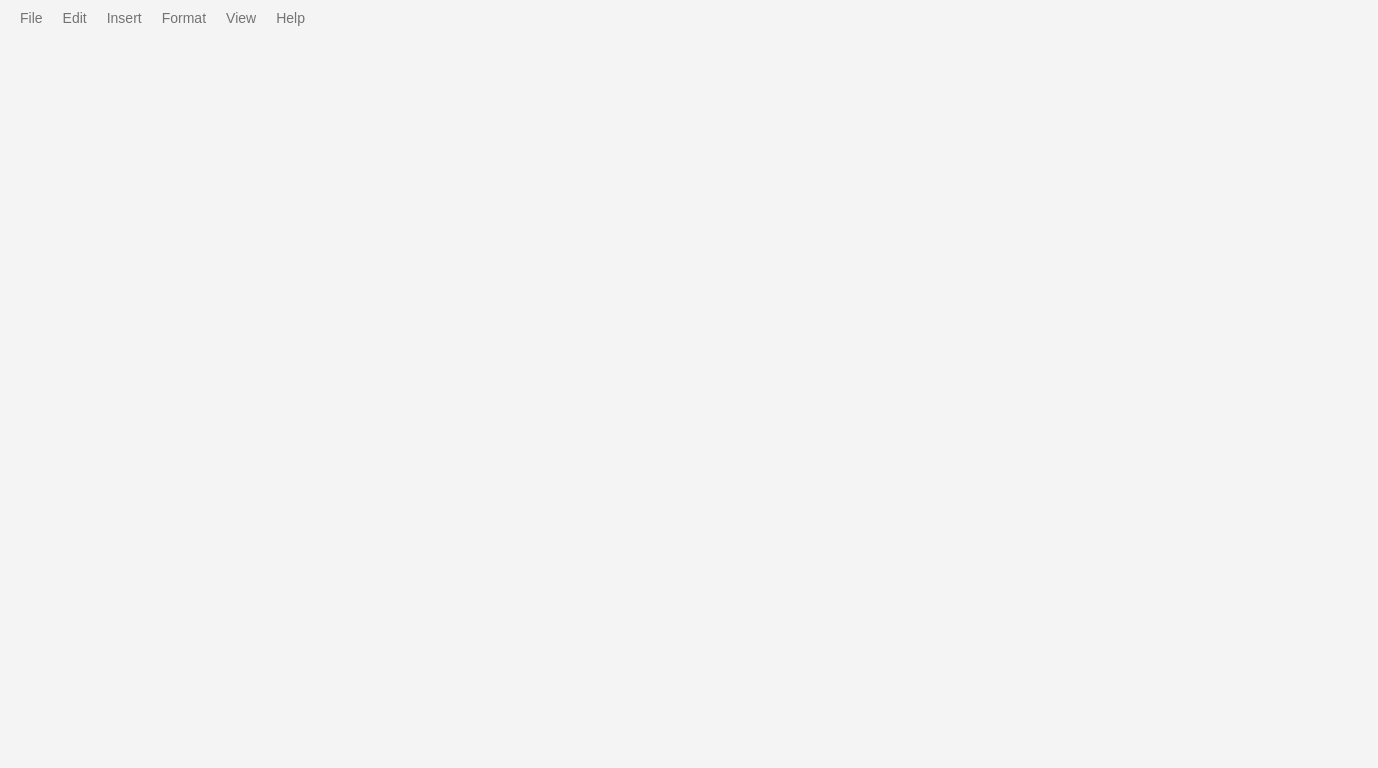
Test: CommandMenubar › callout types › inserts from the GitHub alert dialect submenu
Click the menu item "Insert" at (124,18), box [99, 6, 150, 30]
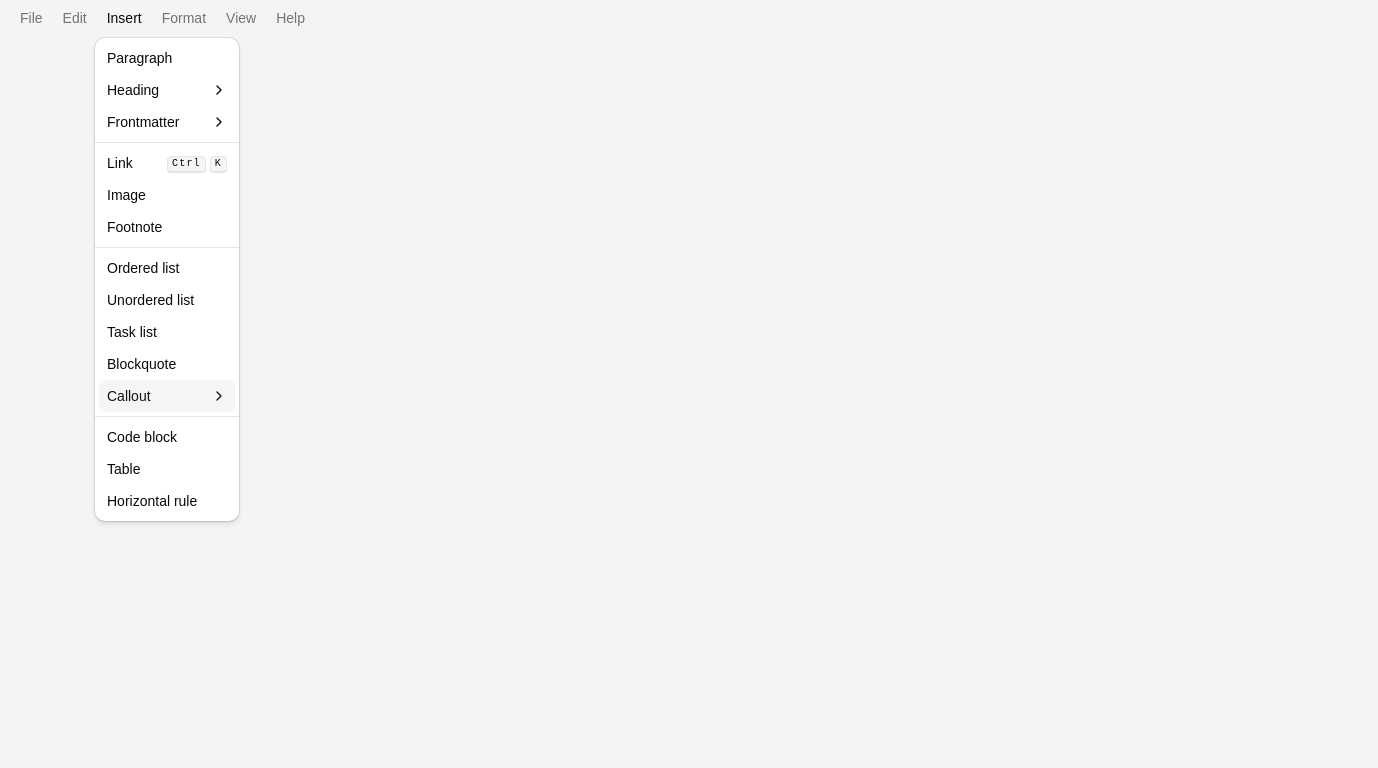
Press Arrowright
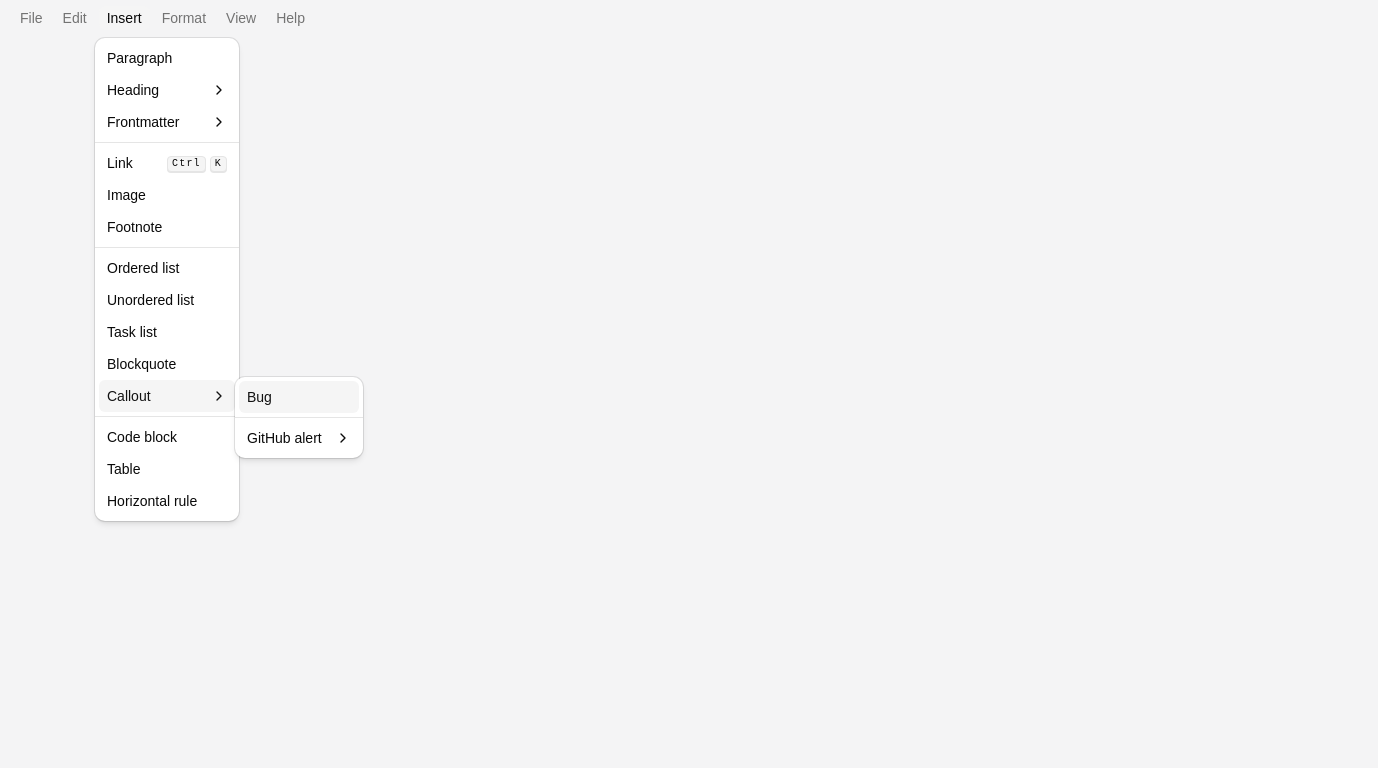
Type keys "G"
Press Arrowright
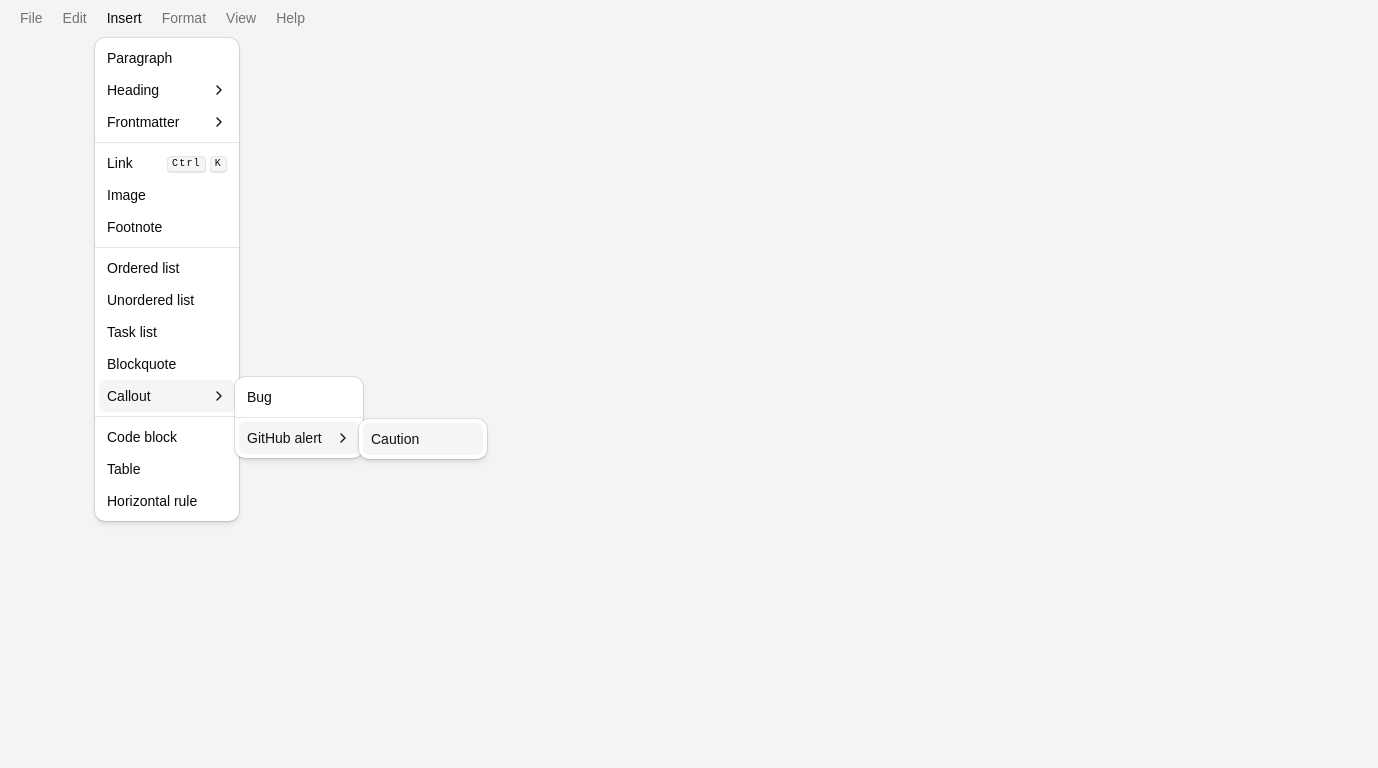
Press Enter
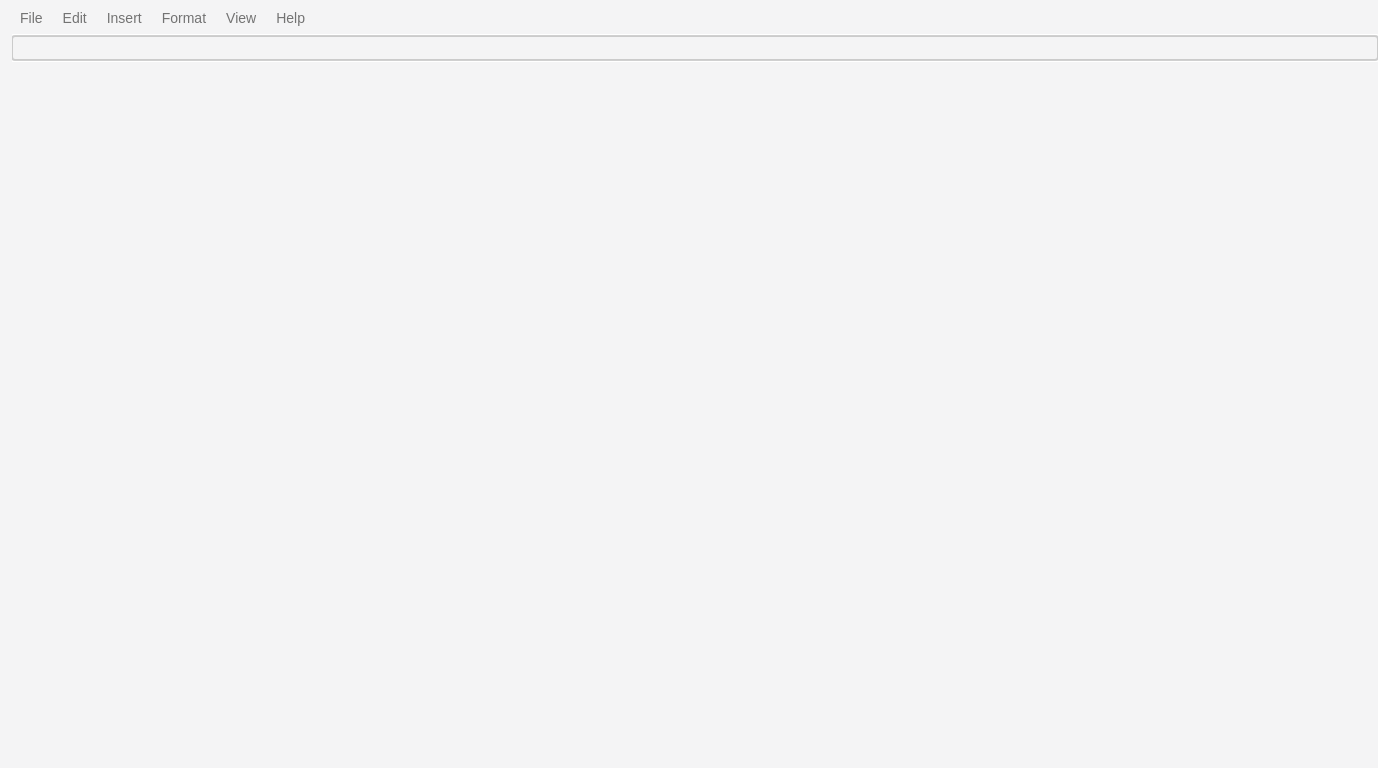
Expected: the menu item "Insert" is collapsed, [99, 6, 150, 30]
